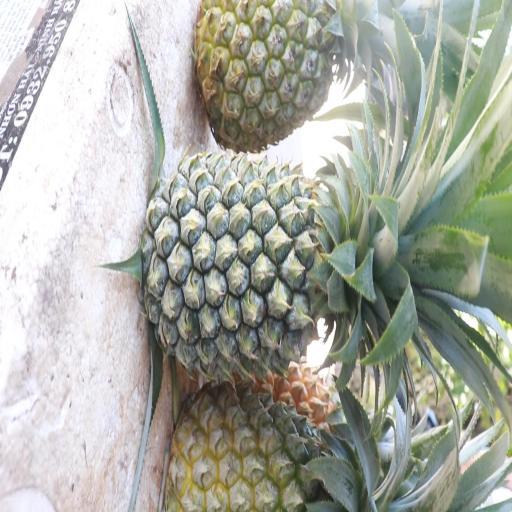------------------------------: (176, 382, 373, 512), (196, 0, 349, 145)
